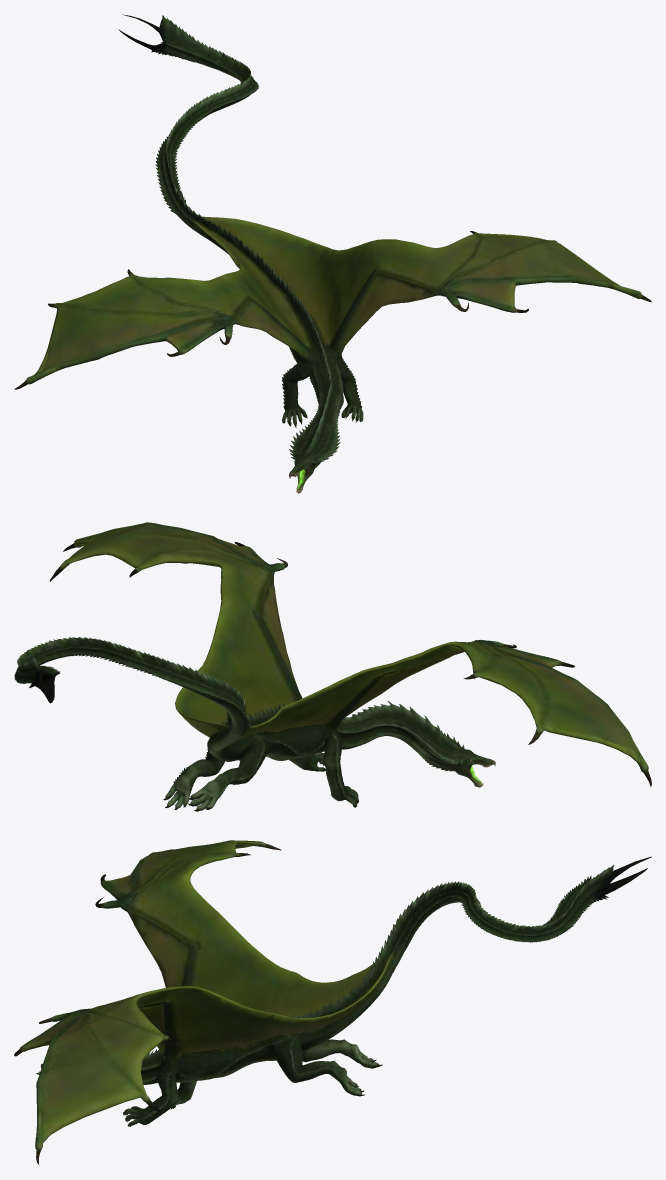
Rendered from MZ4250 - Adult Green Dragon_2025.glb.
3 renders of one model, top to bottom at view 1: azimuth 30°, elevation 25°; view 2: azimuth 150°, elevation 25°; view 3: azimuth 270°, elevation 25°, orthographic. The views are drawn at different scales.
Visible parts, largest first — view 1: Adult Green Dragon.001; view 2: Adult Green Dragon.001; view 3: Adult Green Dragon.001.
Boxes of the visible parts, box(x1,y1,x2,y2) form: Adult Green Dragon.001: box(14, 14, 651, 493); Adult Green Dragon.001: box(14, 522, 651, 811); Adult Green Dragon.001: box(14, 840, 651, 1165).
Bounding box in the file's own units: 616 × 275 × 540.
Materials: 1 (1 with a texture image).
